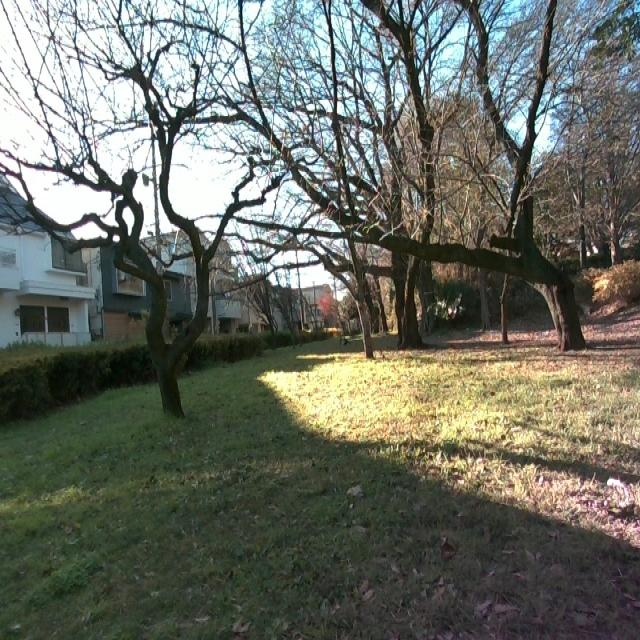artifact: (105, 221, 336, 337), (2, 169, 100, 351)
bush: (2, 318, 310, 419), (580, 256, 640, 334)
tree: (235, 0, 596, 347), (7, 0, 279, 420), (268, 1, 433, 363), (234, 198, 377, 364)
